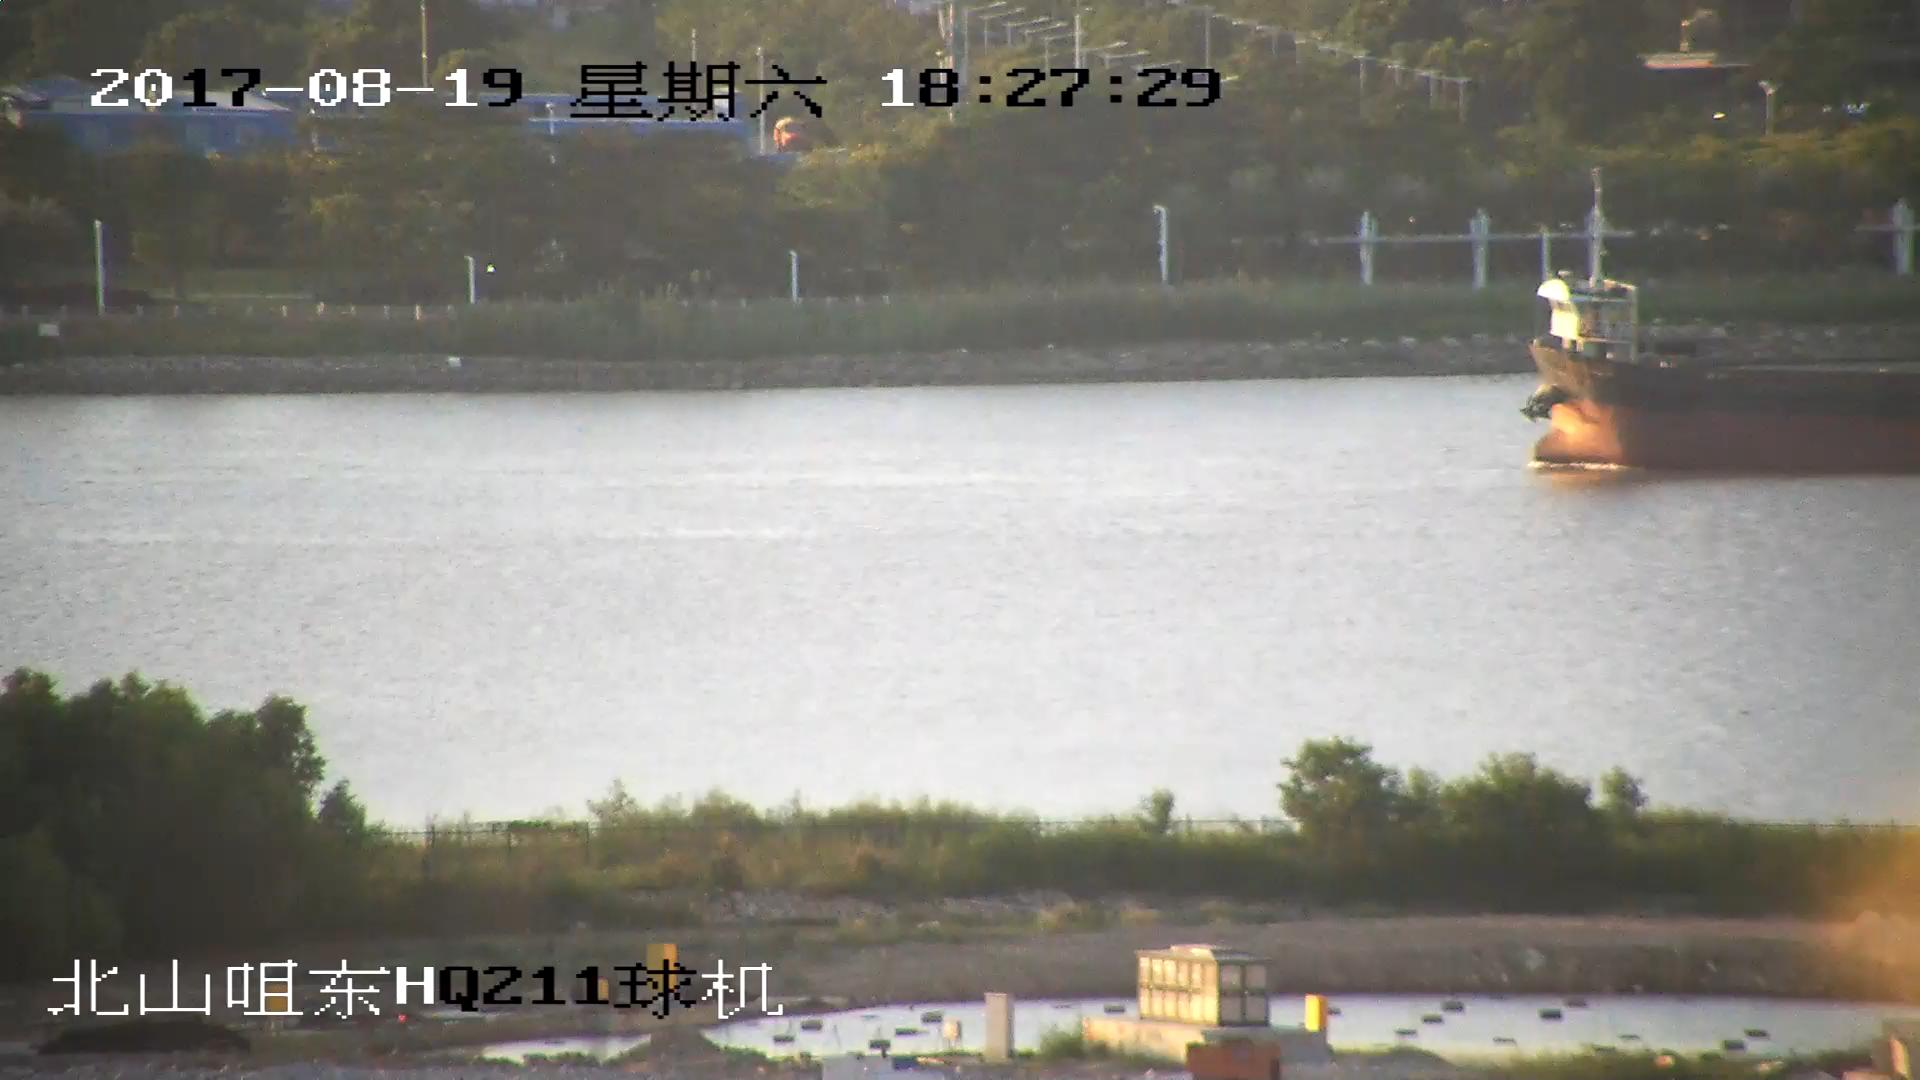general cargo ship: (1523, 279, 1920, 466)
